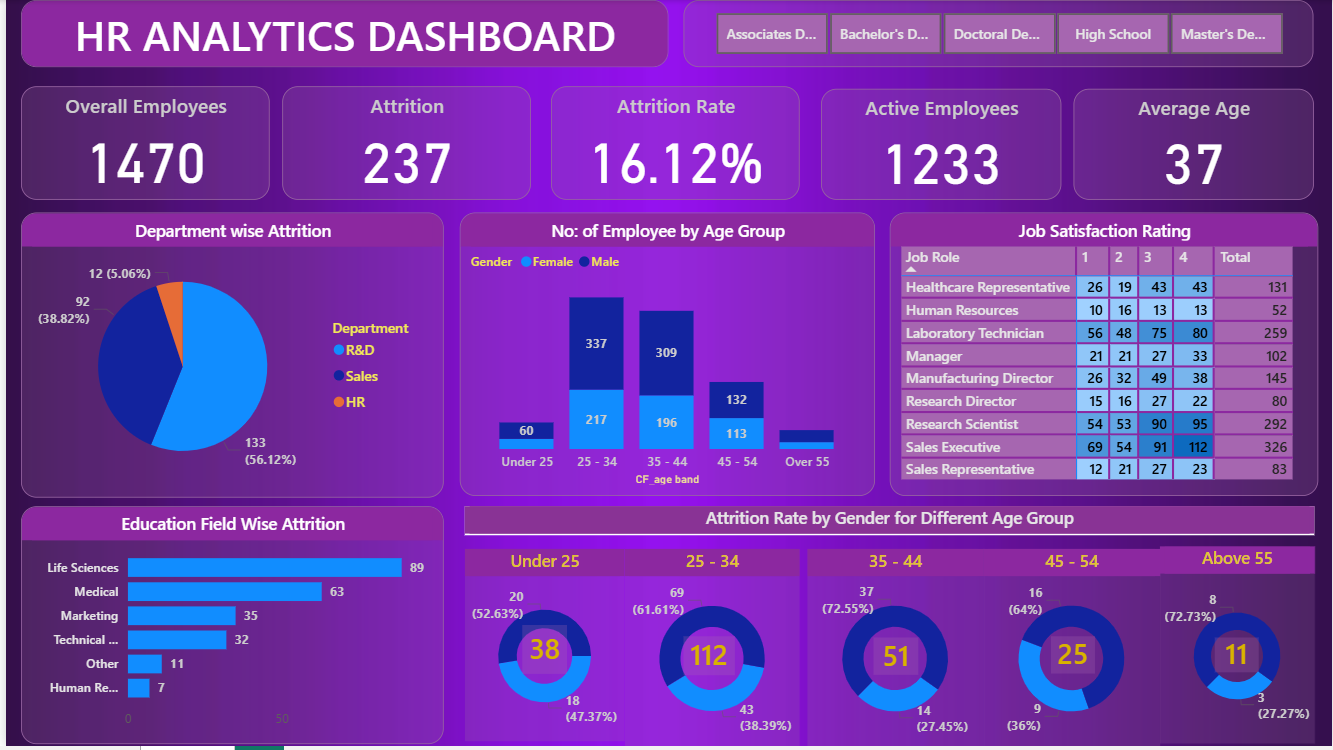

What the dashboard file says about the page in this screenshot:
{"tool":"powerbi","page":{"name":"Page 1","canvas":[1280,720],"ordinal":0},"visuals":[{"type":"card","title":"Overall Employees","fields":{"Values":["Sum(HR data.Employee Count)"]},"box":[14.5,83.2,240.1,109.8],"z":0},{"type":"card","title":"Attrition","fields":{"Values":["Sum(HR data.Attrition count)"]},"box":[266.6,83.2,240.1,109.8],"z":1000},{"type":"card","title":"Attrition Rate","fields":{"Values":["HR data.Attrition Rate"]},"box":[526,83.2,240.1,109.8],"z":2000},{"type":"card","title":"Average Age","fields":{"Values":["Avg(HR data.Age)"]},"box":[1030.3,85.7,231.6,107.4],"z":3000},{"type":"pieChart","title":"Department wise Attrition","fields":{"Category":["HR data.Department"],"Y":["Sum(HR data.Attrition count)"]},"box":[14.5,205.1,407.8,275.1],"z":4000},{"type":"columnChart","title":"No: of Employee by Age Group","fields":{"Category":["HR data.CF_age band"],"Y":["Sum(HR data.Employee Count)"],"Series":["HR data.Gender"]},"box":[437.9,205.1,400.5,273.9],"z":5000},{"type":"pivotTable","title":"Job Satisfaction Rating","fields":{"Rows":["HR data.Job Role"],"Columns":["HR data.Job Satisfaction"],"Values":["Sum(HR data.Employee Count)"]},"box":[853,205.1,413.8,273.9],"z":6000},{"type":"barChart","title":"Education Field Wise Attrition","fields":{"Y":["Sum(HR data.Attrition count)"],"Category":["HR data.Education Field"]},"box":[14.5,488.6,407.8,229.2],"z":7000},{"type":"donutChart","title":"Under 25","fields":{"Category":["HR data.Gender"],"Y":["Sum(HR data.Attrition count)"],"Series":["HR data.CF_age band"]},"box":[442.8,529.6,154.4,185.8],"z":8000},{"type":"textbox","title":"Attrition Rate by Gender for Different Age Group","box":[442.8,488.6,820.4,27.7],"z":9000},{"type":"donutChart","title":"25 - 34","fields":{"Category":["HR data.Gender"],"Y":["Sum(HR data.Attrition count)"],"Series":["HR data.CF_age band"]},"box":[597.2,529.6,168.9,190.6],"z":10000},{"type":"donutChart","title":"35 - 44","fields":{"Category":["HR data.Gender"],"Y":["Sum(HR data.Attrition count)"],"Series":["HR data.CF_age band"]},"box":[773.3,529.6,170.1,190.6],"z":11000},{"type":"donutChart","title":"45 - 54","fields":{"Category":["HR data.Gender"],"Y":["Sum(HR data.Attrition count)"],"Series":["HR data.CF_age band"]},"box":[943.4,529.6,170.1,190.6],"z":12000},{"type":"donutChart","title":"Above 55","fields":{"Category":["HR data.Gender"],"Y":["Sum(HR data.Attrition count)"],"Series":["HR data.CF_age band"]},"box":[1113.5,527.2,149.6,190.6],"z":13000},{"type":"card","fields":{"Values":["Sum(HR data.Attrition count)"]},"box":[498.3,603.2,43.4,47.1],"z":14000},{"type":"card","fields":{"Values":["Sum(HR data.Attrition count)"]},"box":[653.9,614.1,49.5,37.4],"z":15000},{"type":"card","fields":{"Values":["Sum(HR data.Attrition count)"]},"box":[837.3,615.3,43.4,36.2],"z":16000},{"type":"card","fields":{"Values":["Sum(HR data.Attrition count)"]},"box":[1008.6,614.1,42.2,36.2],"z":17000},{"type":"card","fields":{"Values":["Sum(HR data.Attrition count)"]},"box":[1166.6,615.3,42.2,33.8],"z":18000},{"type":"textbox","title":"HR ANALYTICS DASHBOARD","box":[14.5,0,624.9,65.1],"z":19000},{"type":"card","title":"Active Employees","fields":{"Values":["HR data.Active Employees"]},"box":[786.6,85.7,231.6,107.4],"z":20000},{"type":"slicer","fields":{"Values":["HR data.Education"]},"box":[653.9,0,608,65.1],"z":21000}]}

Visuals, with their boxes in screenshot pixels (x1, y1, x2, y2), scaled from the page's 1280x720 canvas onto the 1333x750 screenshot:
"Overall Employees" card: pyautogui.locateOnScreen(15, 87, 265, 201)
"Attrition" card: pyautogui.locateOnScreen(278, 87, 528, 201)
"Attrition Rate" card: pyautogui.locateOnScreen(548, 87, 798, 201)
"Average Age" card: pyautogui.locateOnScreen(1073, 89, 1314, 201)
"Department wise Attrition" pieChart: pyautogui.locateOnScreen(15, 214, 440, 500)
"No: of Employee by Age Group" columnChart: pyautogui.locateOnScreen(456, 214, 873, 499)
"Job Satisfaction Rating" pivotTable: pyautogui.locateOnScreen(888, 214, 1319, 499)
"Education Field Wise Attrition" barChart: pyautogui.locateOnScreen(15, 509, 440, 748)
"Under 25" donutChart: pyautogui.locateOnScreen(461, 552, 622, 745)
"Attrition Rate by Gender for Different Age Group" textbox: pyautogui.locateOnScreen(461, 509, 1316, 538)
"25 - 34" donutChart: pyautogui.locateOnScreen(622, 552, 798, 749)
"35 - 44" donutChart: pyautogui.locateOnScreen(805, 552, 982, 749)
"45 - 54" donutChart: pyautogui.locateOnScreen(982, 552, 1160, 749)
"Above 55" donutChart: pyautogui.locateOnScreen(1160, 549, 1315, 748)
card - Sum(HR data.Attrition count): pyautogui.locateOnScreen(519, 628, 564, 677)
card - Sum(HR data.Attrition count): pyautogui.locateOnScreen(681, 640, 733, 679)
card - Sum(HR data.Attrition count): pyautogui.locateOnScreen(872, 641, 917, 679)
card - Sum(HR data.Attrition count): pyautogui.locateOnScreen(1050, 640, 1094, 677)
card - Sum(HR data.Attrition count): pyautogui.locateOnScreen(1215, 641, 1259, 676)
"HR ANALYTICS DASHBOARD" textbox: pyautogui.locateOnScreen(15, 0, 666, 68)
"Active Employees" card: pyautogui.locateOnScreen(819, 89, 1060, 201)
slicer - HR data.Education: pyautogui.locateOnScreen(681, 0, 1314, 68)
